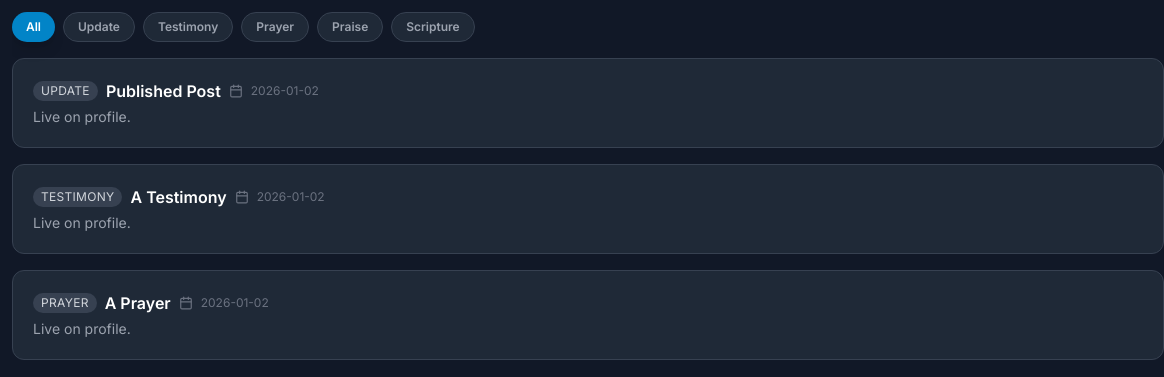
Scenario: Public read-only view (isolated) › filters published posts by type via the chips, and resets on All
Expected: the heading "Published Post" is shown, [106,79,221,103]
Expected: the heading "A Testimony" is shown, [130,185,227,209]
Testimony filter: only the testimony remains.
Click the button "Testimony" at [188, 27], box [143,12,233,42]
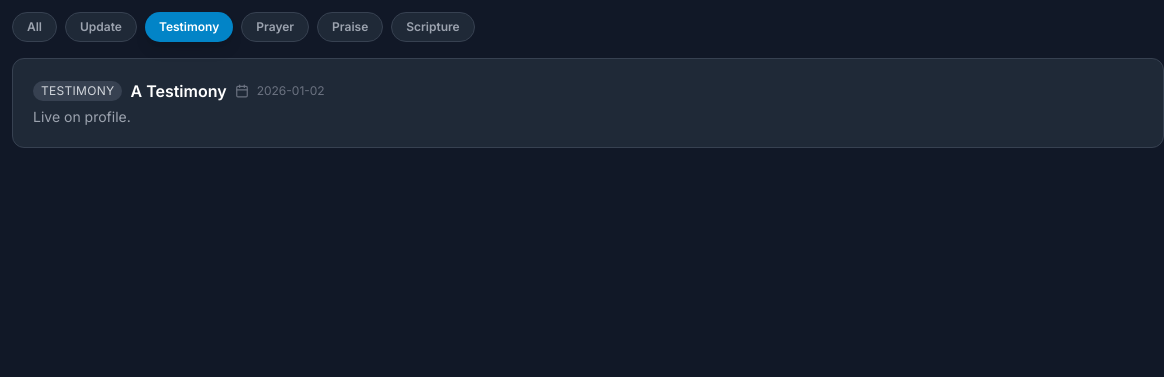
Expected: the heading "A Testimony" is shown, [130,79,227,103]
Result: the heading "Published Post" is gone
Result: the heading "A Prayer" is gone
Prayer filter: only the prayer remains.
Click the button "Prayer" at [275, 27], box [241,12,309,42]
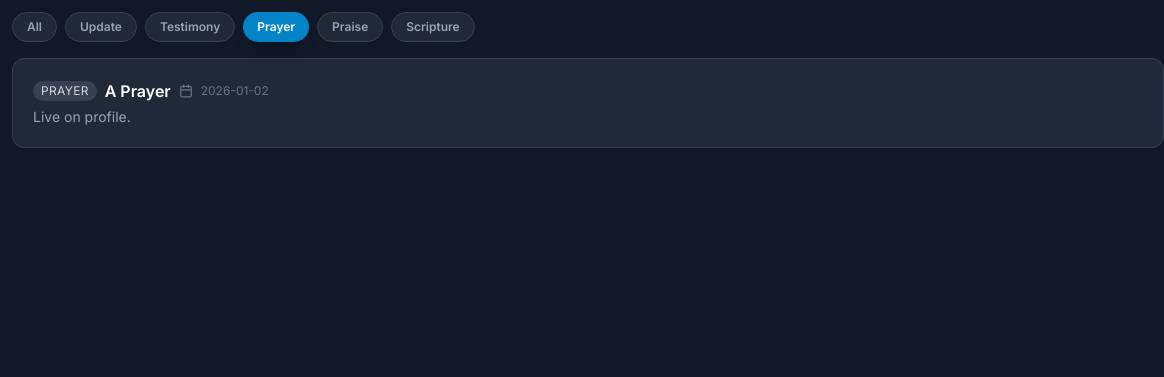
Result: the heading "A Testimony" is gone
Result: the heading "A Prayer" is shown at [105,79,171,103]
Back to All: everything returns.
Click the button "All" at [34, 27], box [12,12,57,42]
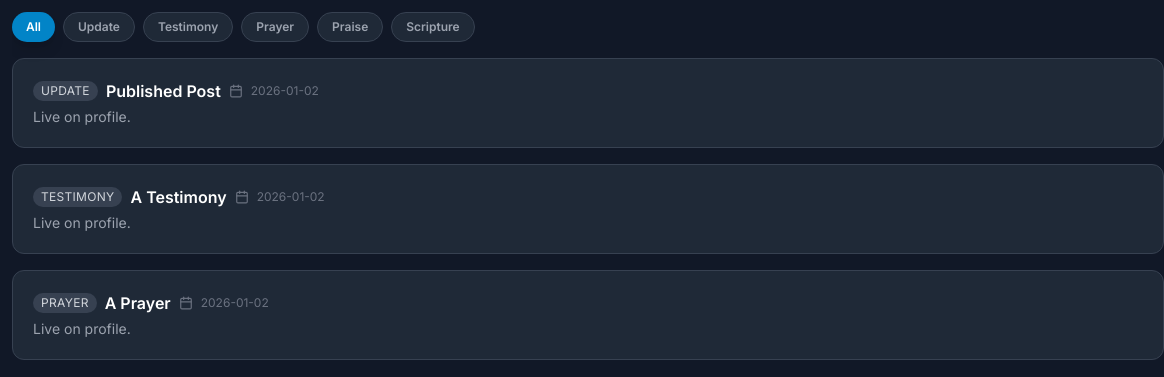
Result: the heading "A Prayer" is shown at [105,291,171,315]
Result: the heading "Published Post" is shown at [106,79,221,103]
Result: the heading "A Testimony" is shown at [130,185,227,209]
